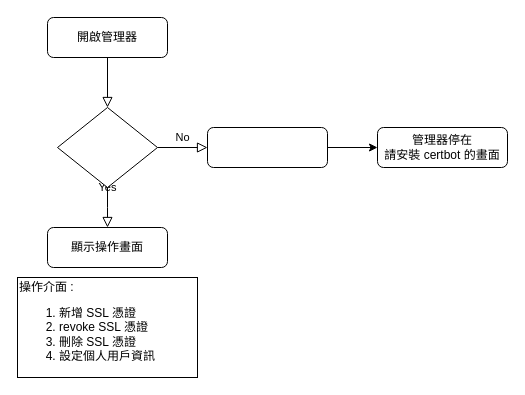
Some shapes in this 525 by 395 pixel diagram are drawn without their labels. The centre of each missing label's shape, as x and y in pixels:
certbot 是否已安裝: point (107, 147)
打開瀏覽器 下載安裝檔: point (267, 147)
